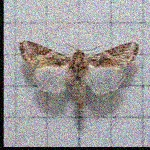Spodoptera litura: (18, 40, 138, 111)
